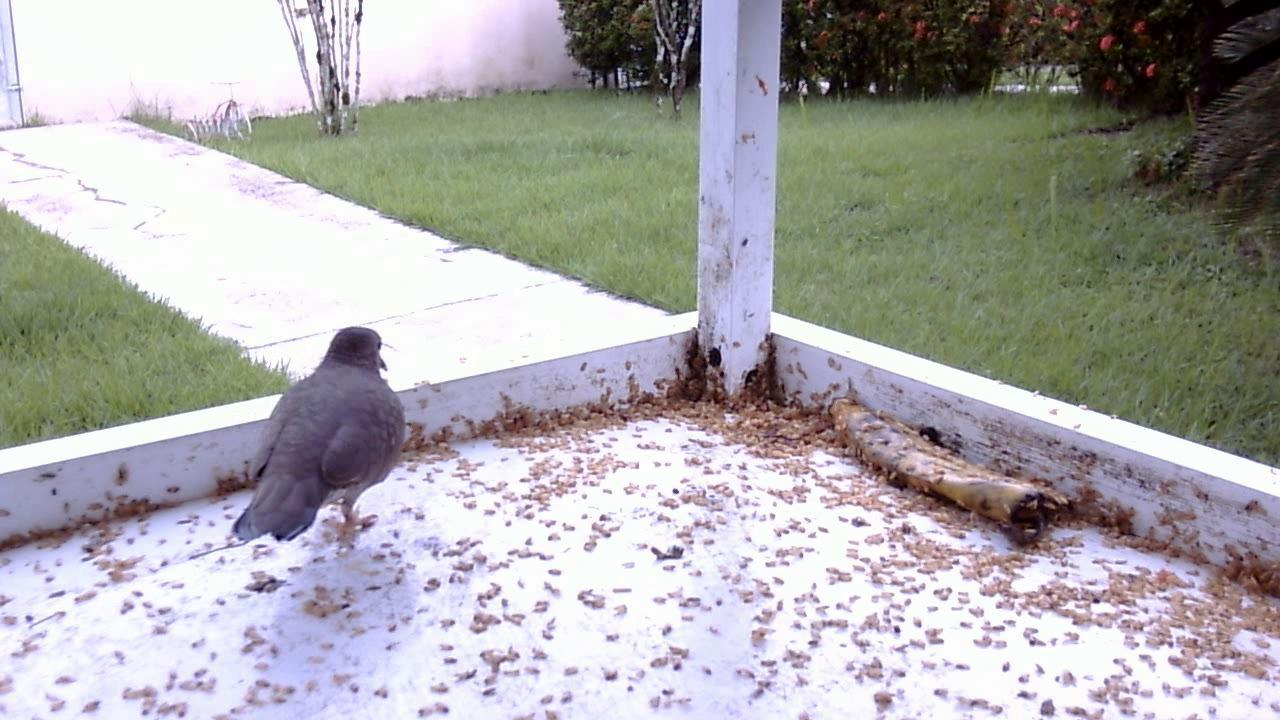rolinha: (214, 316, 419, 560)
